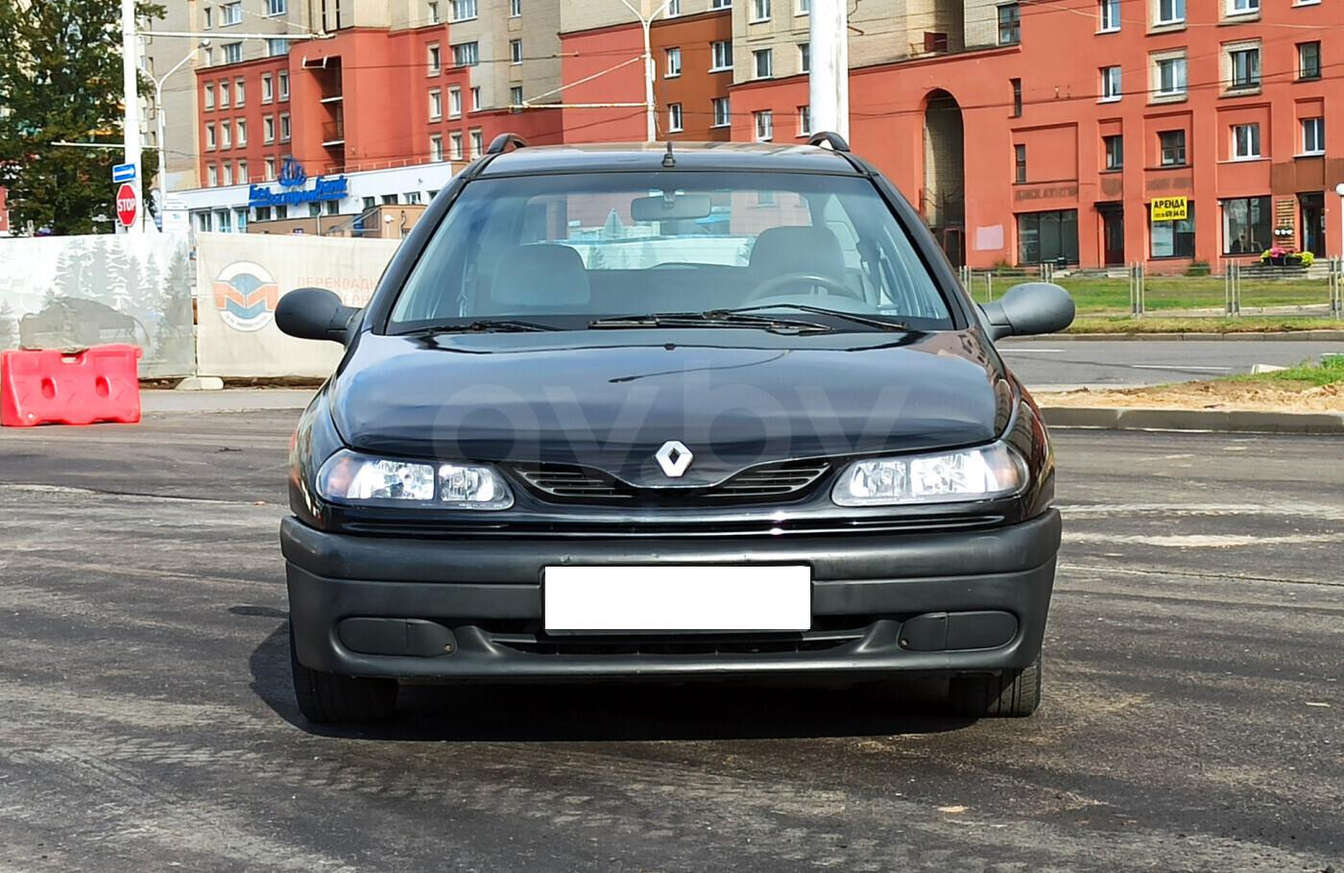Lahuna_1993-1999: (277, 128, 1080, 735)
